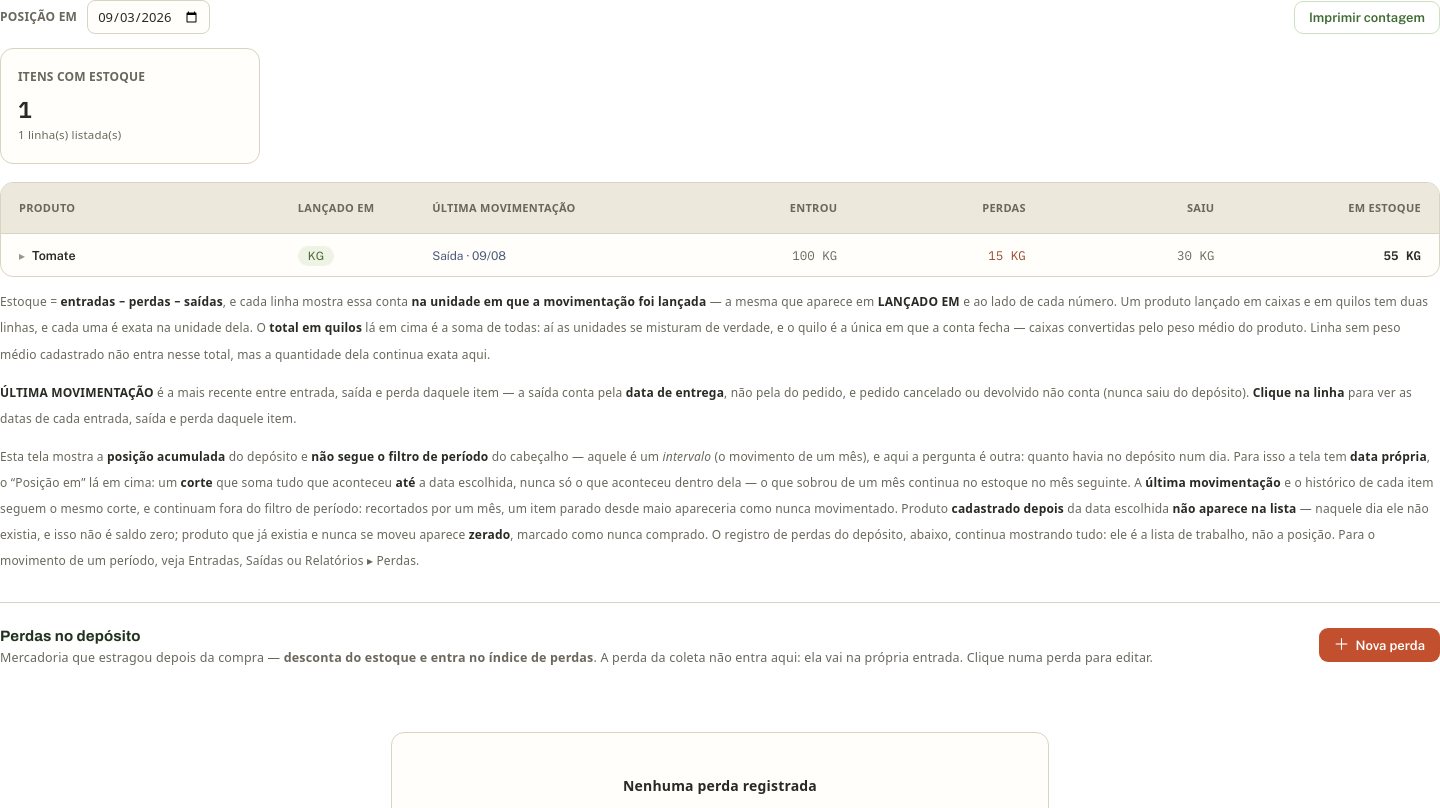
Scenario: EstoqueLista — historico por item (custo: uma busca para a tela inteira) › renderiza o historico NA ORDEM RECEBIDA — nao reordena duas do mesmo dia
The image size is (1440, 808).
Click the button "▸Tomate KG Saída · 09/08 100 KG 15 KG 30 KG 55 KG" at (54, 255), box [1,234,1439,276]
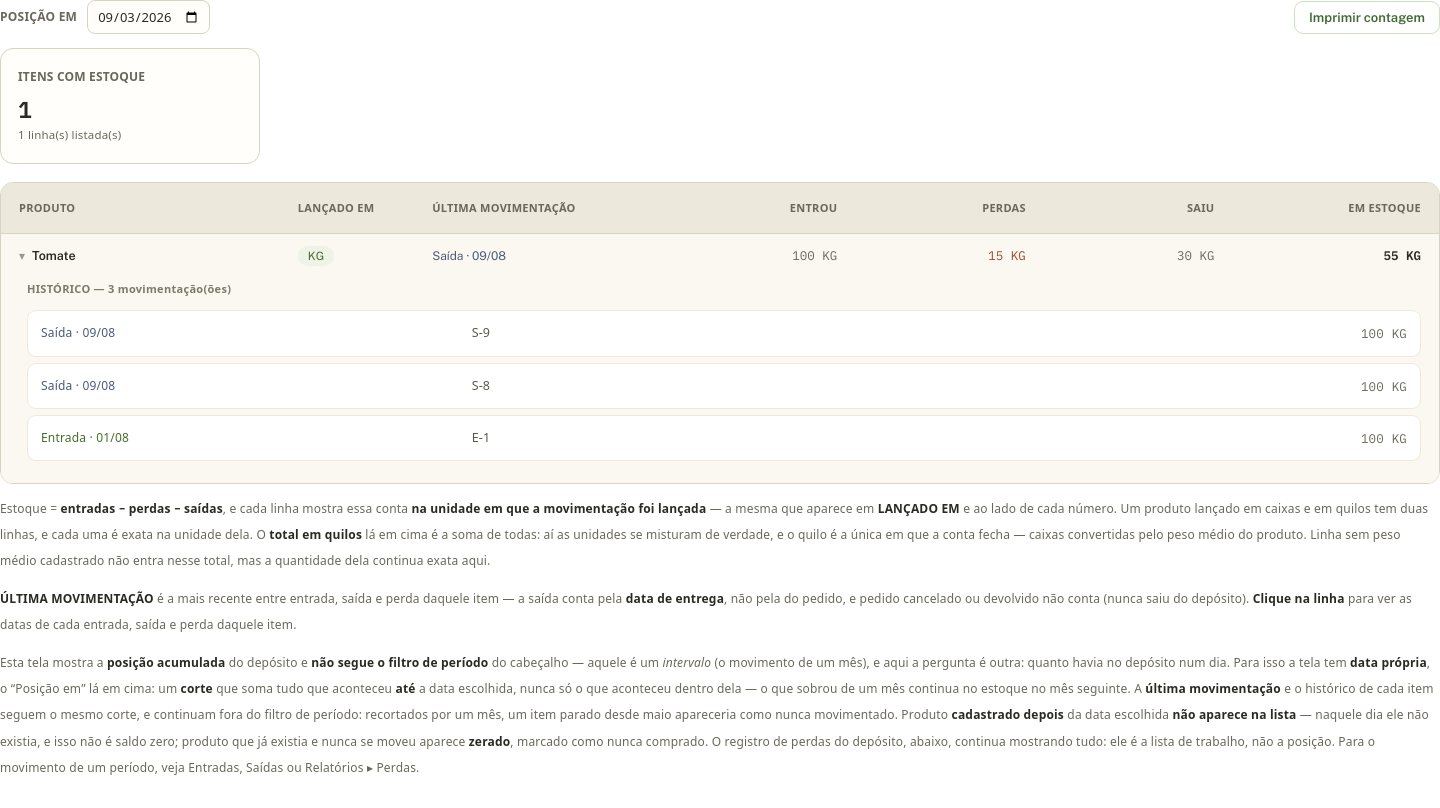
Check: the text "S-9" is shown, box [472,324,490,342]
